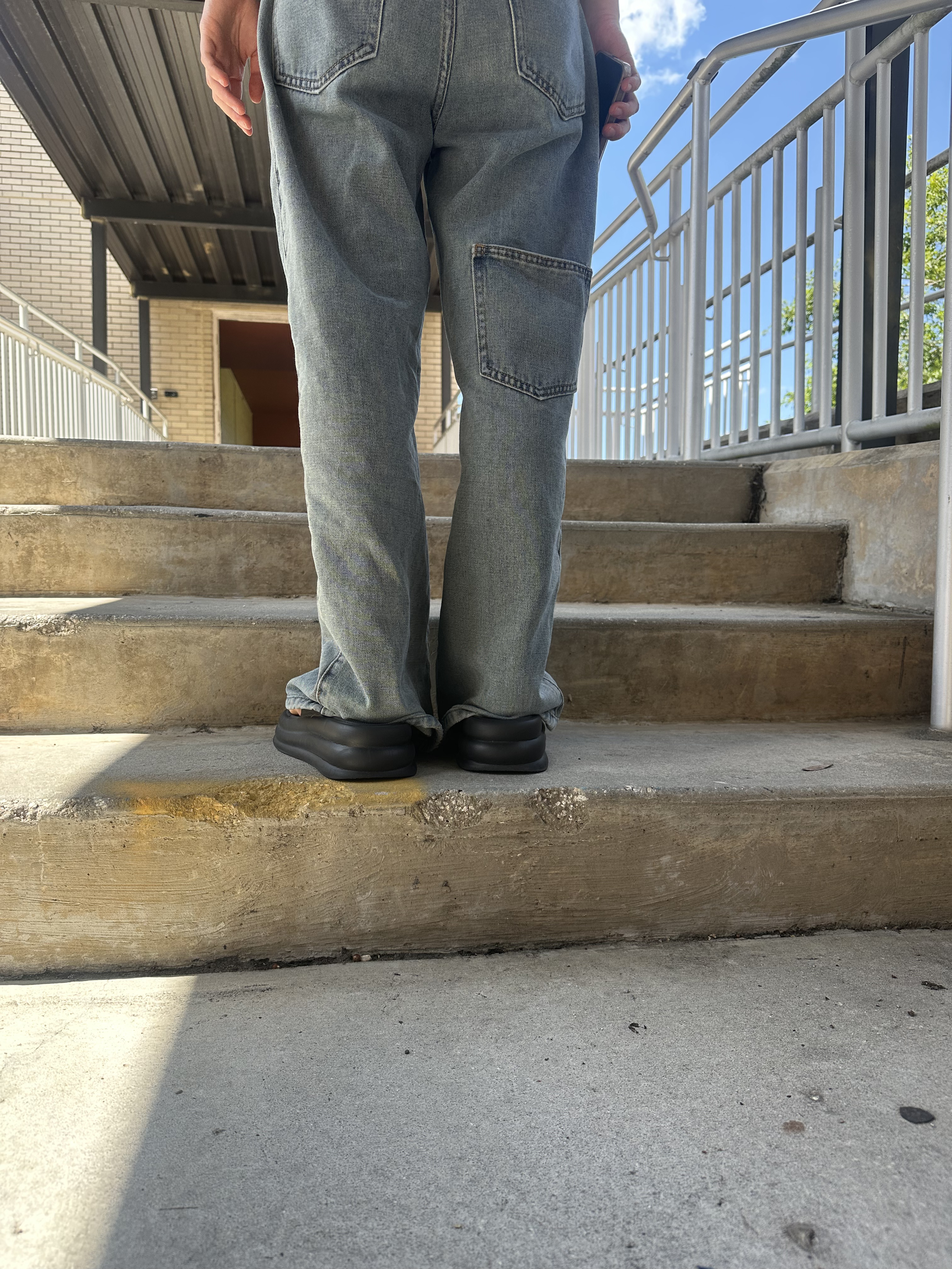stairs: (3, 441, 952, 983)
